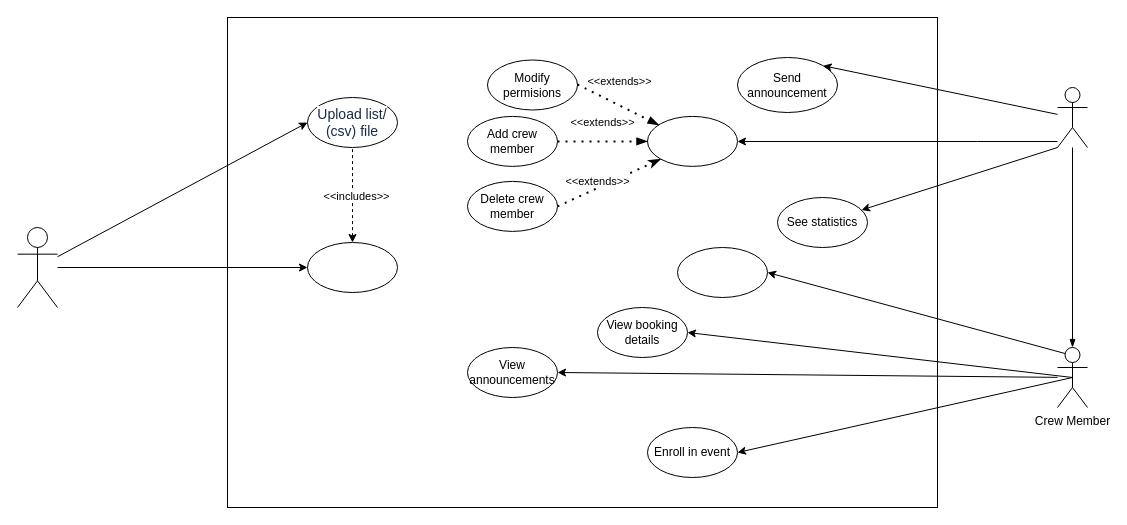
The diagram is 1127 pixels wide and 525 high, and some of its shapes have lost their labels. Each missing label, with the centre of its shape:
"Admin" goes at (1072,117).
"Client" goes at (37,267).
"Edit events" goes at (692,140).
"Make bookings" goes at (352,267).
"V iew enrolled-in events" goes at (722,272).
